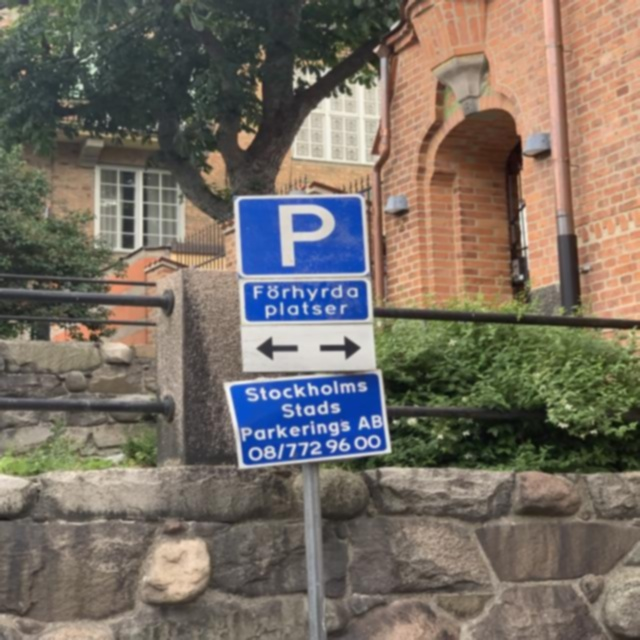P-skylt: (230, 193, 372, 280)
